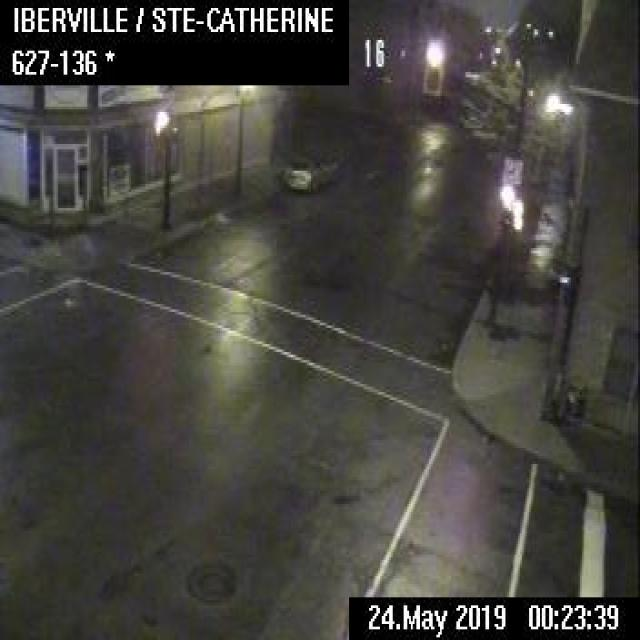vehicle: (284, 154, 334, 191)
